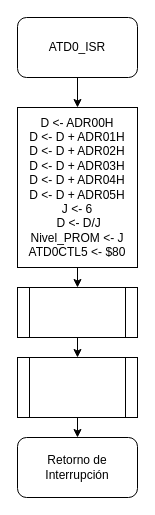
Some shapes in this 155 by 515 pixel diagram are drawn without their labels. The centre of each missing label's shape, as x and y in pixels:
"CALCULO" goes at point 77,312.
"CONV_ASCII" goes at point 77,387.
